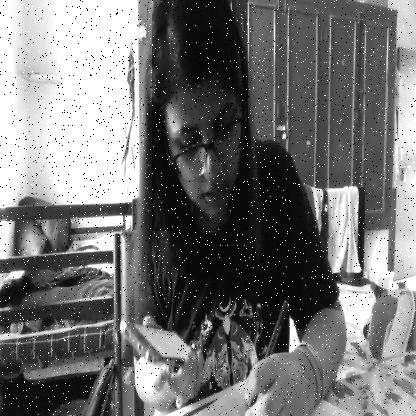Normal: (152, 0, 248, 231)
